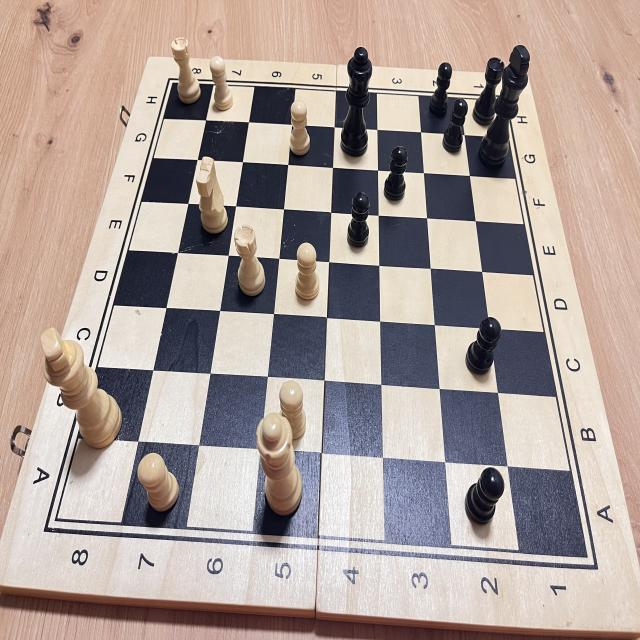black-king: (477, 38, 535, 182)
black-pawn: (462, 458, 510, 532), (462, 302, 504, 383), (441, 96, 476, 164), (424, 56, 456, 125), (343, 187, 374, 254), (383, 147, 415, 209)
black-queen: (332, 35, 375, 163)
black-rook: (471, 50, 509, 134)
white-king: (30, 316, 126, 456)
white-knight: (189, 151, 235, 244)
white-pawn: (132, 445, 184, 518), (288, 236, 326, 310), (275, 372, 313, 446), (282, 94, 317, 161), (205, 48, 240, 114)
white-queen: (246, 404, 307, 526)
white-rook: (229, 220, 272, 303), (168, 30, 202, 110)
